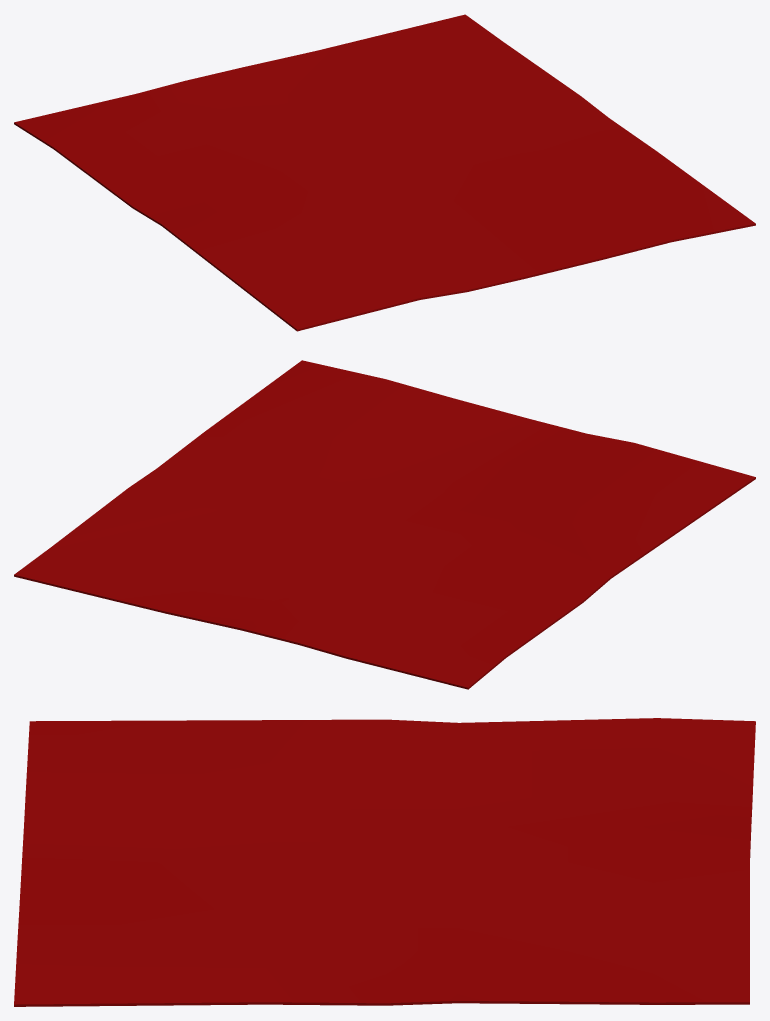
Rendered from S_Envi_Common_Cardboard_02a.gltf.
3 renders of one model, top to bottom at view 1: azimuth 30°, elevation 25°; view 2: azimuth 150°, elevation 25°; view 3: azimuth 270°, elevation 25°, orthographic. The views are drawn at different scales.
Visible parts, largest first — view 1: S_Envi_Common_Cardboard_02a; view 2: S_Envi_Common_Cardboard_02a; view 3: S_Envi_Common_Cardboard_02a.
Part boxes in pixels (bbox=[...]): S_Envi_Common_Cardboard_02a: bbox=[14, 14, 755, 331]; S_Envi_Common_Cardboard_02a: bbox=[14, 360, 755, 689]; S_Envi_Common_Cardboard_02a: bbox=[14, 718, 755, 1006].
Bounding box in the file's own units: 1 × 0.0104 × 1.11.
